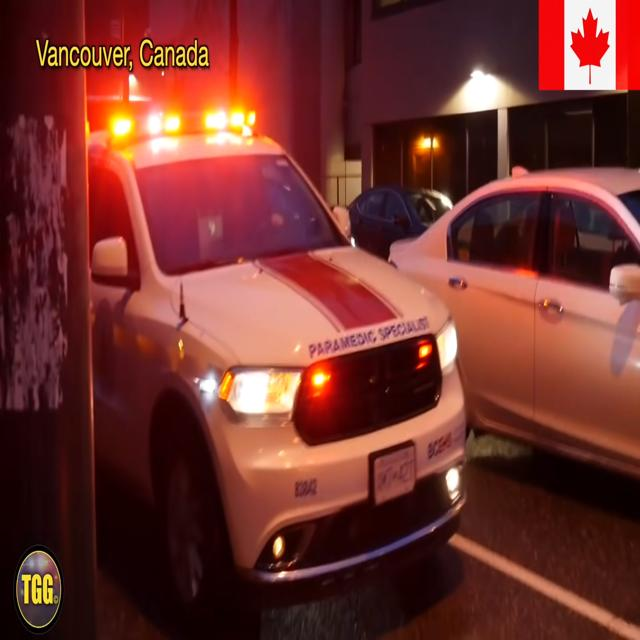emergency-vehicles: (45, 94, 480, 622)
